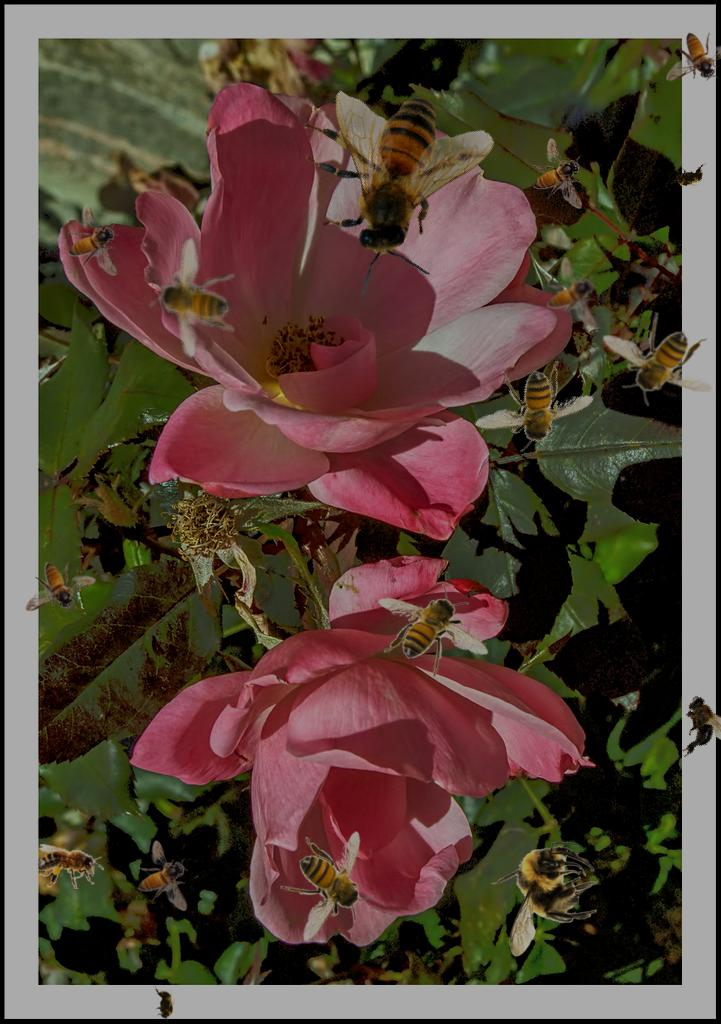Bee: (250, 34, 535, 320), (458, 336, 605, 480), (127, 225, 262, 367), (491, 842, 598, 957), (280, 831, 374, 942), (602, 312, 713, 406), (378, 584, 489, 678), (661, 685, 721, 761), (25, 562, 96, 612), (138, 840, 188, 911), (547, 257, 597, 328), (68, 205, 118, 276), (533, 138, 583, 209), (38, 844, 104, 889), (666, 32, 721, 82), (667, 162, 711, 192), (154, 985, 176, 1024)
